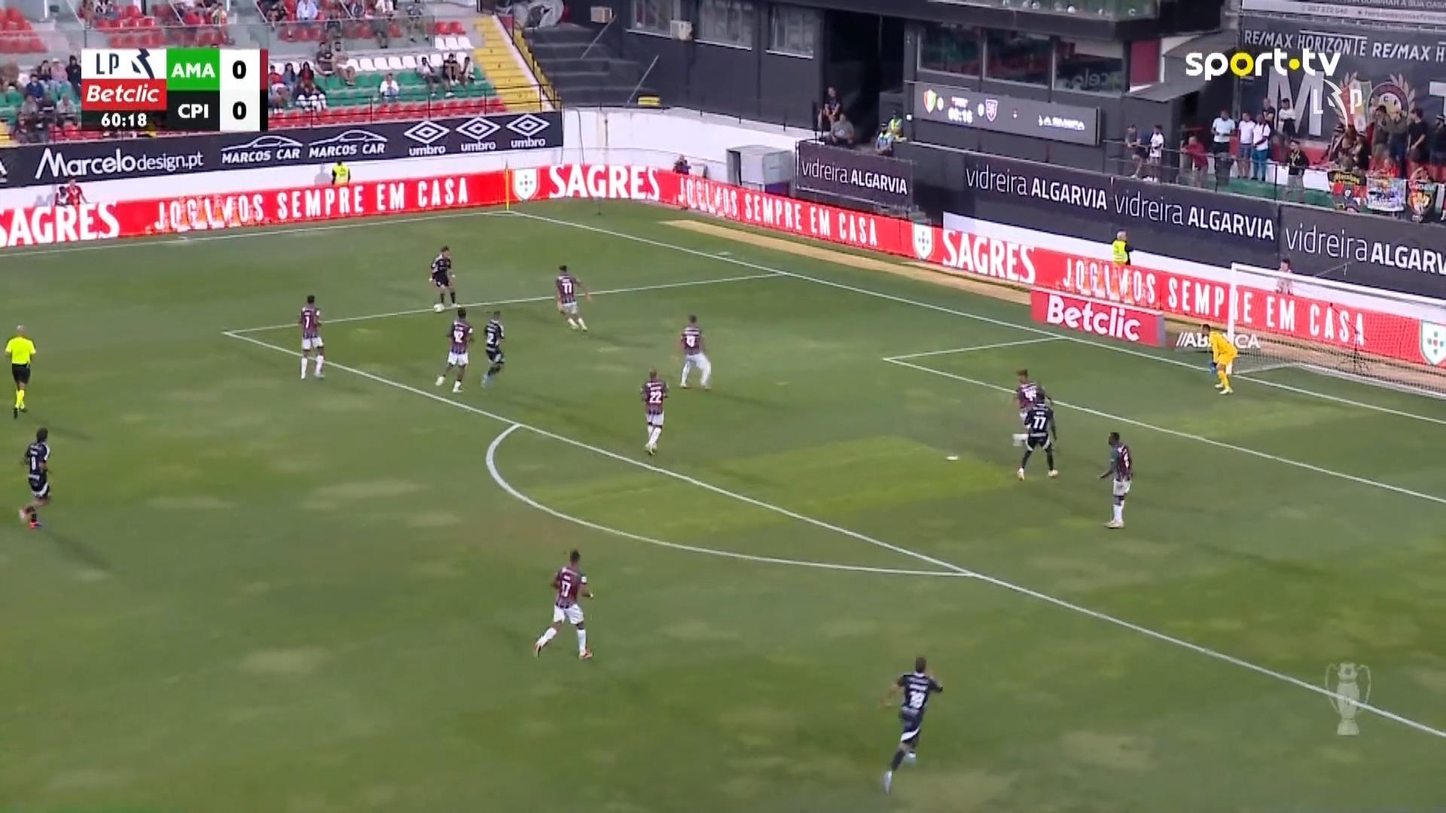ball: (433, 303, 444, 312)
goalkeeper: (1200, 323, 1238, 394)
player: (878, 656, 944, 793), (532, 549, 595, 660), (1015, 391, 1059, 480), (17, 426, 53, 529), (1097, 431, 1133, 528), (434, 307, 474, 393), (1011, 367, 1048, 445), (677, 313, 712, 389), (639, 367, 669, 455), (554, 263, 592, 332), (297, 294, 326, 379), (480, 309, 506, 387), (428, 245, 458, 312)
referee: (4, 324, 36, 418)
